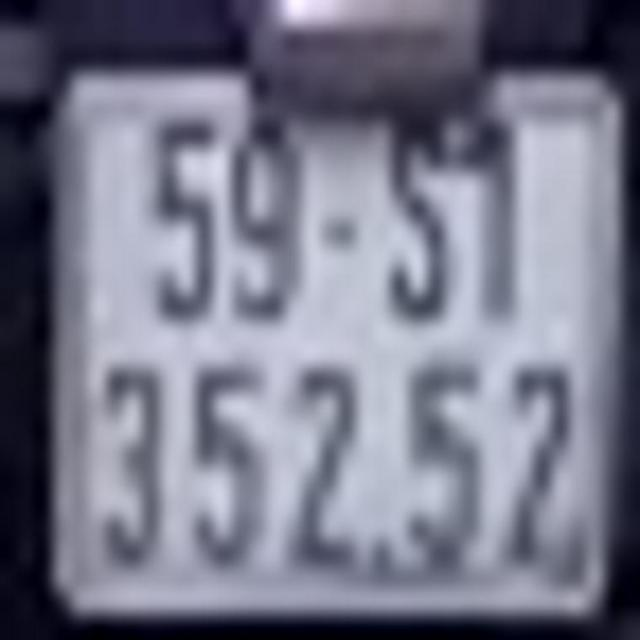1: (467, 119, 521, 320)
2: (507, 362, 580, 572), (289, 368, 362, 550)
3: (105, 357, 163, 572)
5: (404, 360, 480, 567), (193, 361, 268, 570), (159, 121, 221, 322)
9: (231, 127, 301, 322)
S: (396, 132, 448, 314)
